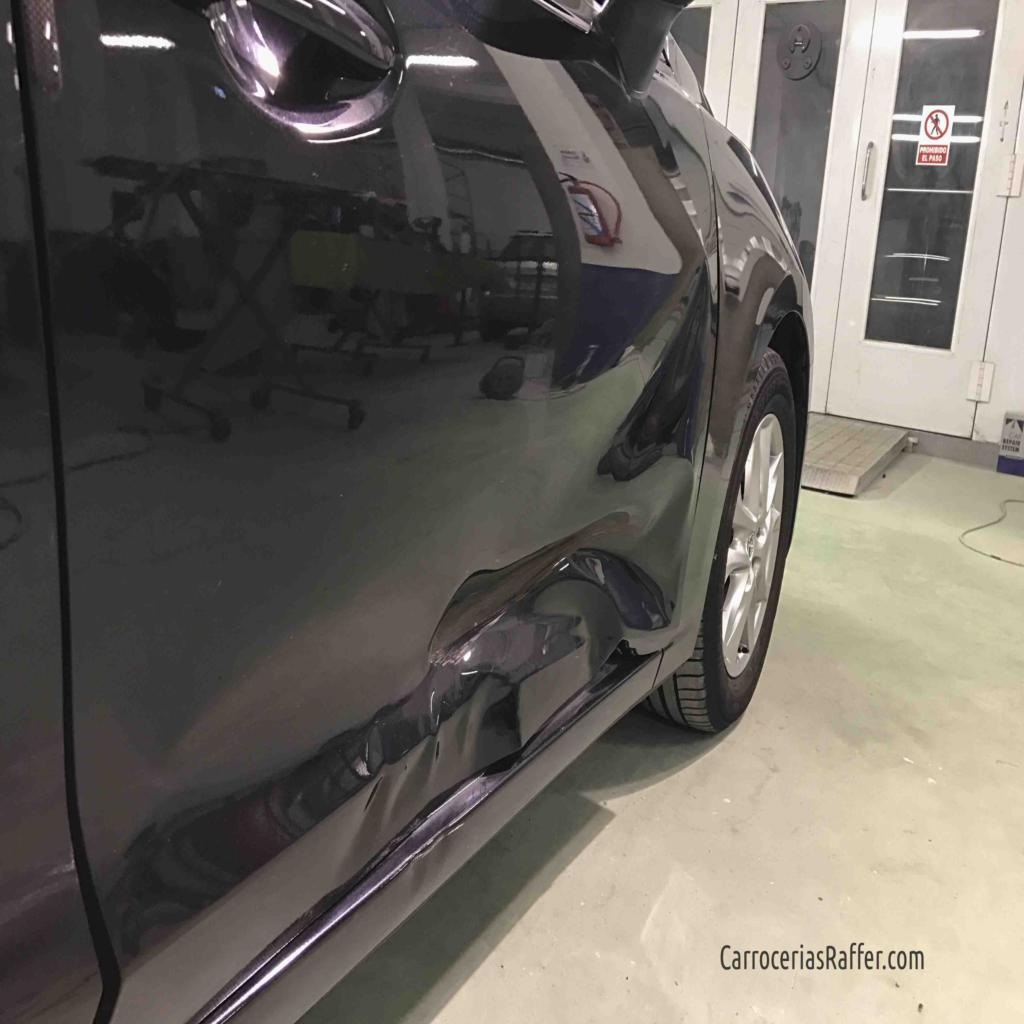Dent: (334, 511, 693, 898)
